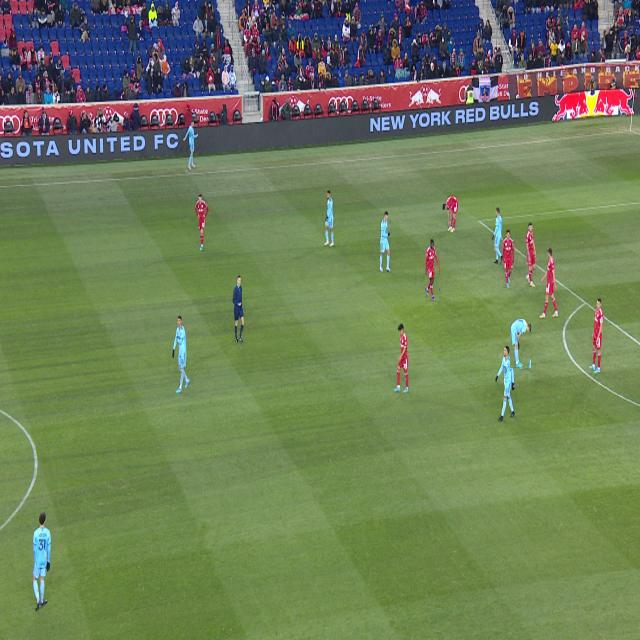player: (32, 512, 51, 611), (495, 346, 515, 421), (172, 316, 190, 393), (539, 248, 558, 318), (589, 298, 604, 374), (394, 324, 408, 393), (511, 320, 531, 368), (195, 194, 209, 251), (426, 240, 439, 301), (379, 211, 391, 273), (526, 224, 536, 288), (503, 230, 514, 288), (323, 190, 334, 247), (492, 208, 503, 265), (443, 196, 458, 233)
referee: (232, 275, 244, 343)
